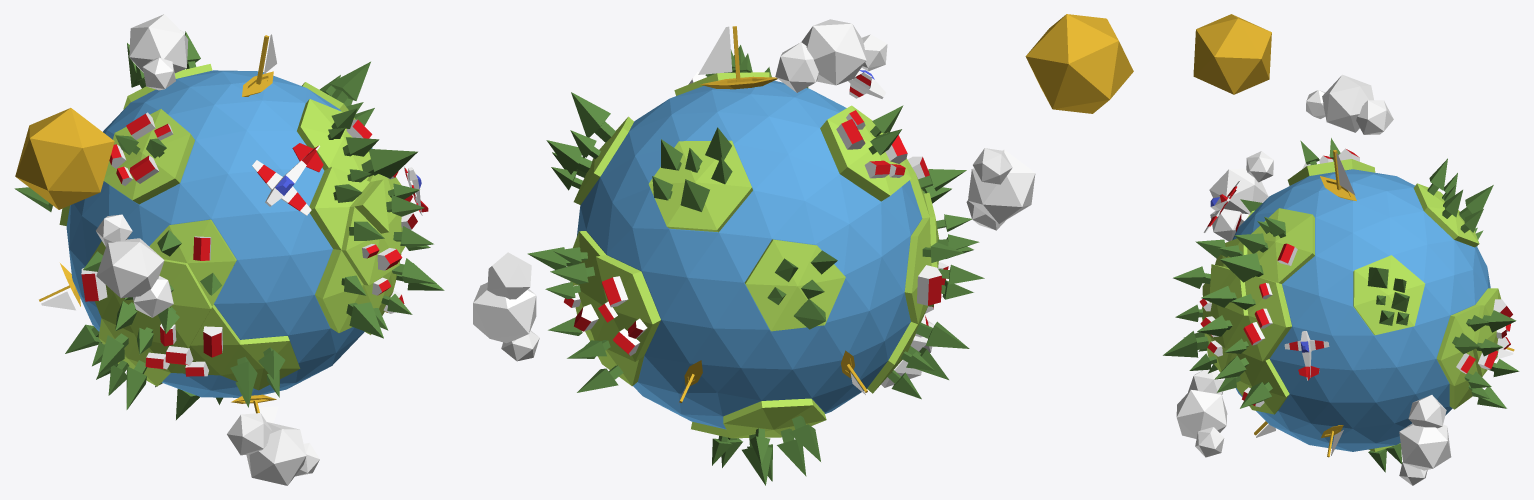
Rendered from Earth_low_poly_without_bg.glb.
The picture shows the model from 3 angles, left to right: view 1: azimuth 30°, elevation 25°; view 2: azimuth 150°, elevation 25°; view 3: azimuth 270°, elevation 25°; orthographic projection. The views are drawn at different scales.
Visible parts, largest first — view 1: Icosphere.001, Icosphere, Icosphere.006, Icosphere.003, Icosphere.005, Icosphere.004, Plane.002, Plane.007, Plane.003, Plane.017, Plane.015, Plane.082 (+15 smaller); view 2: Icosphere.001, Icosphere, Icosphere.006, Icosphere.004, Icosphere.002, Icosphere.003, Plane.003, Plane.017, Plane.065, Plane.082, Plane.020, Plane.002 (+1 smaller); view 3: Icosphere.001, Icosphere, Icosphere.006, Icosphere.004, Icosphere.002, Icosphere.005, Icosphere.003, Plane.114, Plane.007, Plane.003, Plane.015, Plane.028 (+10 smaller).
Boxes of the visible parts, box(x1,y1,x2,y2) form: Icosphere.001: box(66, 70, 372, 397); Icosphere: box(59, 64, 405, 390); Icosphere.006: box(15, 108, 114, 209); Icosphere.003: box(96, 214, 173, 317); Icosphere.005: box(227, 413, 319, 485); Icosphere.004: box(129, 14, 188, 90); Plane.002: box(252, 143, 323, 215); Plane.007: box(361, 149, 417, 178); Plane.003: box(242, 34, 276, 96); Plane.017: box(329, 61, 370, 103); Plane.015: box(346, 302, 383, 338); Plane.082: box(98, 333, 128, 373); Icosphere.001: box(577, 80, 922, 429); Icosphere: box(567, 72, 939, 438); Icosphere.006: box(1025, 14, 1133, 113); Icosphere.004: box(775, 19, 887, 92); Icosphere.002: box(473, 252, 539, 361); Icosphere.003: box(966, 148, 1035, 230); Plane.003: box(698, 26, 777, 89); Plane.017: box(571, 92, 615, 142); Plane.065: box(917, 265, 941, 305); Plane.082: box(915, 321, 969, 348); Plane.020: box(546, 140, 592, 174); Plane.002: box(848, 70, 885, 98); Icosphere.001: box(1232, 169, 1490, 451); Icosphere: box(1202, 159, 1500, 451); Icosphere.006: box(1193, 14, 1271, 94); Icosphere.004: box(1306, 74, 1393, 134); Icosphere.002: box(1399, 395, 1451, 485); Icosphere.005: box(1176, 367, 1227, 457); Icosphere.003: box(1209, 151, 1273, 241); Plane.114: box(1284, 331, 1329, 380); Plane.007: box(1220, 253, 1263, 282); Plane.003: box(1320, 150, 1356, 200); Plane.015: box(1163, 331, 1208, 357); Plane.028: box(1459, 185, 1493, 221).
Size of the model in its own units: 3.52 by 2.9 by 2.6.
